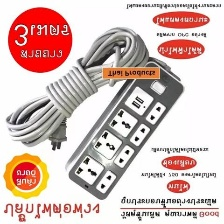three_eye_plug: (61, 58, 191, 205)
